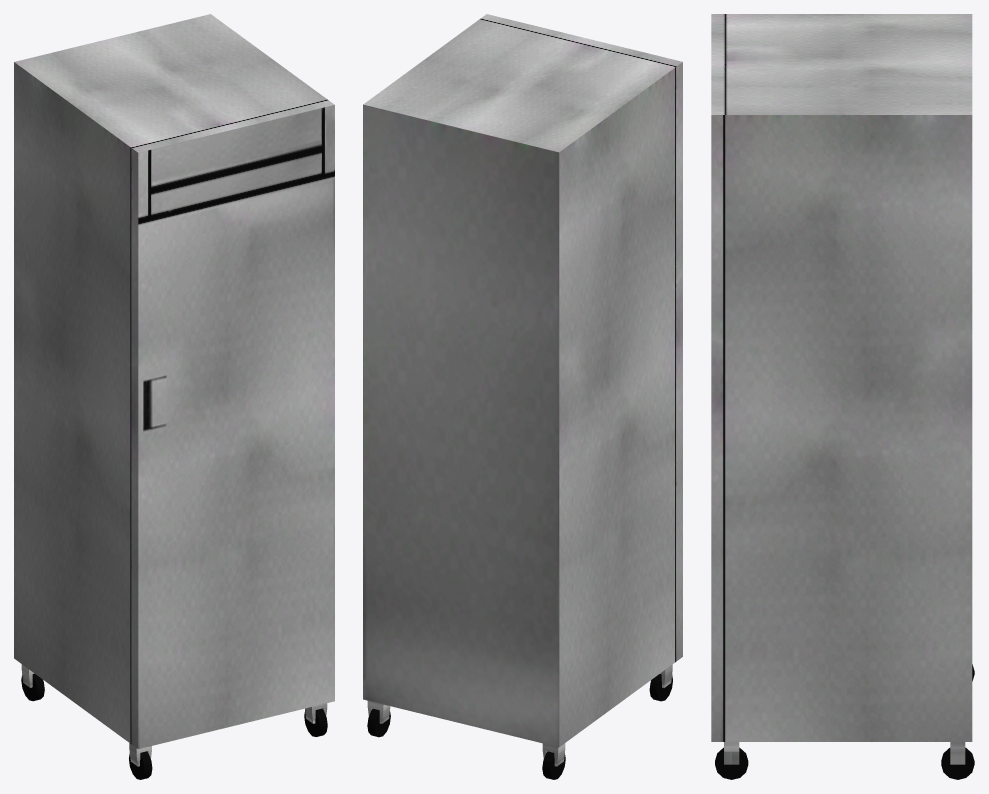
Rendered from Refrigerator - 1 Door.obj.
The picture shows the model from 3 angles, left to right: view 1: azimuth 30°, elevation 25°; view 2: azimuth 150°, elevation 25°; view 3: azimuth 270°, elevation 25°; orthographic projection. The views are drawn at different scales.
Visible parts, largest first — view 1: object2, object3, object4, object1; view 2: object1, object3, object4; view 3: object3, object4, object1.
Part boxes in pixels (left/top/right/bottom): object2: left=138, top=105, right=334, bottom=748; object3: left=14, top=14, right=334, bottom=748; object4: left=21, top=673, right=327, bottom=779; object1: left=21, top=664, right=327, bottom=766; object1: left=363, top=104, right=672, bottom=766; object3: left=363, top=14, right=682, bottom=746; object4: left=367, top=674, right=672, bottom=779; object3: left=711, top=14, right=972, bottom=741; object4: left=715, top=664, right=974, bottom=779; object1: left=724, top=742, right=965, bottom=764.
Bounding box in the file's own units: 27 × 83.33 × 29.75.
Materials: 4 (3 with a texture image).
